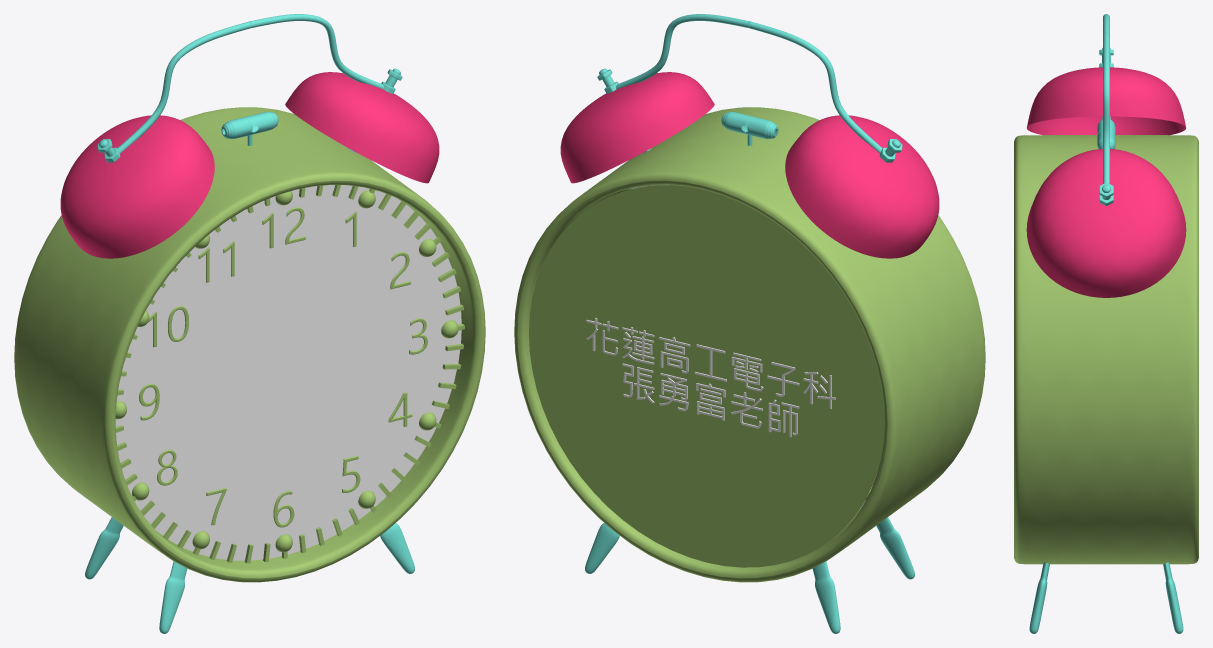
Rendered from 小鬧鐘V2.1_updateMaterial.glb.
The picture shows the model from 3 angles, left to right: view 1: azimuth 30°, elevation 25°; view 2: azimuth 150°, elevation 25°; view 3: azimuth 270°, elevation 25°; orthographic projection. The views are drawn at different scales.
Visible parts, largest first — view 1: 支柱x4-Plastic Green - Glossy.1 (×2), 支柱x4-Plastic Black - Glossy, 支柱x4-Plastic Green - Glossy; view 2: 支柱x4-Plastic Black - Glossy, 支柱x4-Plastic Green - Glossy.1 (×2), 支柱x4-Plastic Green - Glossy; view 3: 支柱x4-Plastic Black - Glossy, 支柱x4-Plastic Green - Glossy.1, 支柱x4-Plastic Green - Glossy.
Part boxes in pixels (x1,y1,x2,y2): 支柱x4-Plastic Green - Glossy.1 (×2): (60,72,461,560); 支柱x4-Plastic Black - Glossy: (14,107,485,582); 支柱x4-Plastic Green - Glossy: (85,14,414,633); 支柱x4-Plastic Black - Glossy: (514,107,985,582); 支柱x4-Plastic Green - Glossy.1 (×2): (560,72,939,506); 支柱x4-Plastic Green - Glossy: (585,14,914,633); 支柱x4-Plastic Black - Glossy: (1014,135,1198,564); 支柱x4-Plastic Green - Glossy.1: (1026,67,1186,297); 支柱x4-Plastic Green - Glossy: (1029,14,1183,633).
Bounding box in the file's own units: 625 × 866 × 269.
